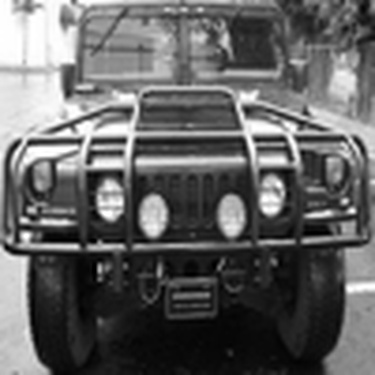car: (2, 1, 371, 373)
